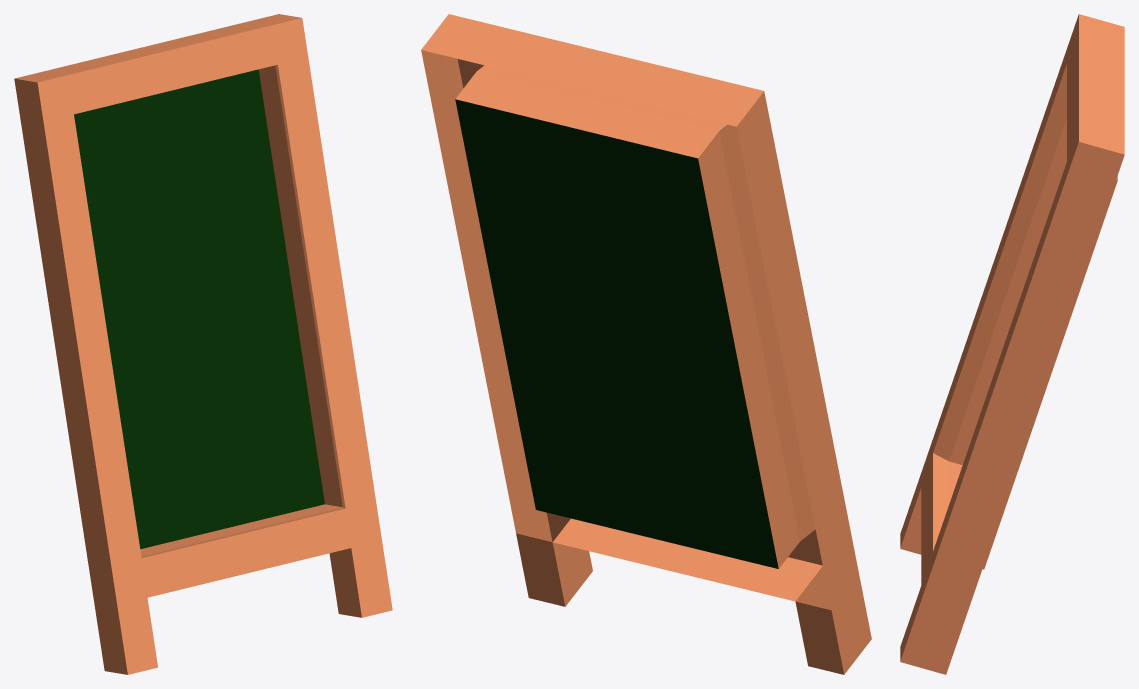
The picture shows the model from 3 angles, left to right: view 1: azimuth 30°, elevation 25°; view 2: azimuth 150°, elevation 25°; view 3: azimuth 270°, elevation 25°; orthographic projection. The views are drawn at different scales.
Parts seen in each view (by area): view 1: Cube.003; view 2: Cube.003; view 3: Cube.003.
Part boxes in pixels (x1=…): Cube.003: x1=14, y1=14, x2=392, y2=674; Cube.003: x1=421, y1=14, x2=871, y2=674; Cube.003: x1=900, y1=14, x2=1124, y2=674.
Size of the model in its own units: 700 by 1363 by 520.
